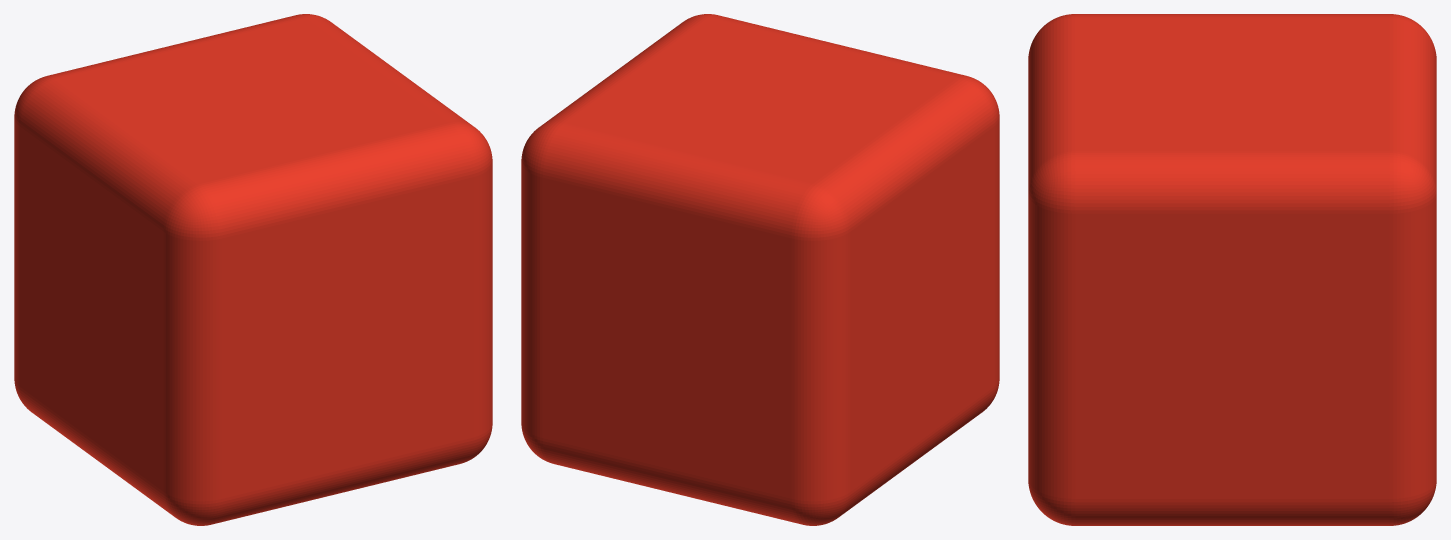
Rendered from box-Blue.fbx.
The picture shows the model from 3 angles, left to right: view 1: azimuth 30°, elevation 25°; view 2: azimuth 150°, elevation 25°; view 3: azimuth 270°, elevation 25°; orthographic projection. The views are drawn at different scales.
Parts seen in each view (by area): view 1: Cube; view 2: Cube; view 3: Cube.
Boxes of the visible parts, box(x1,y1,x2,y2) form: Cube: box(14, 14, 492, 525); Cube: box(521, 14, 999, 525); Cube: box(1028, 14, 1436, 525).
Bounding box in the file's own units: 200 × 200 × 200.
